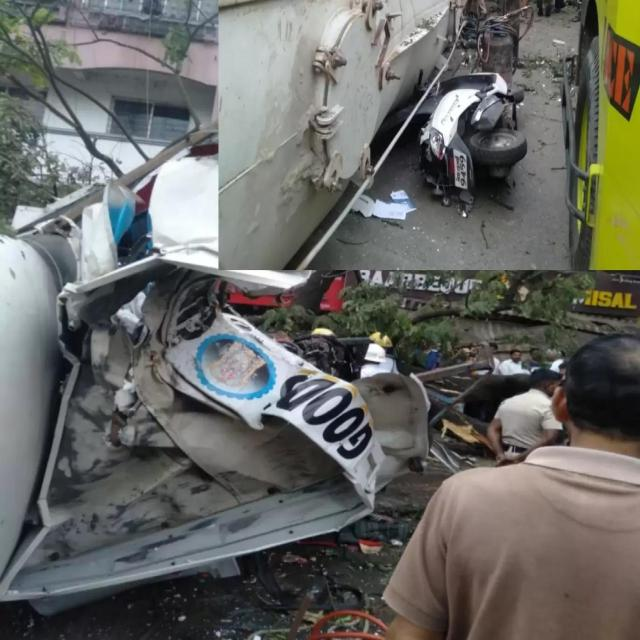accident: (419, 72, 528, 215)
